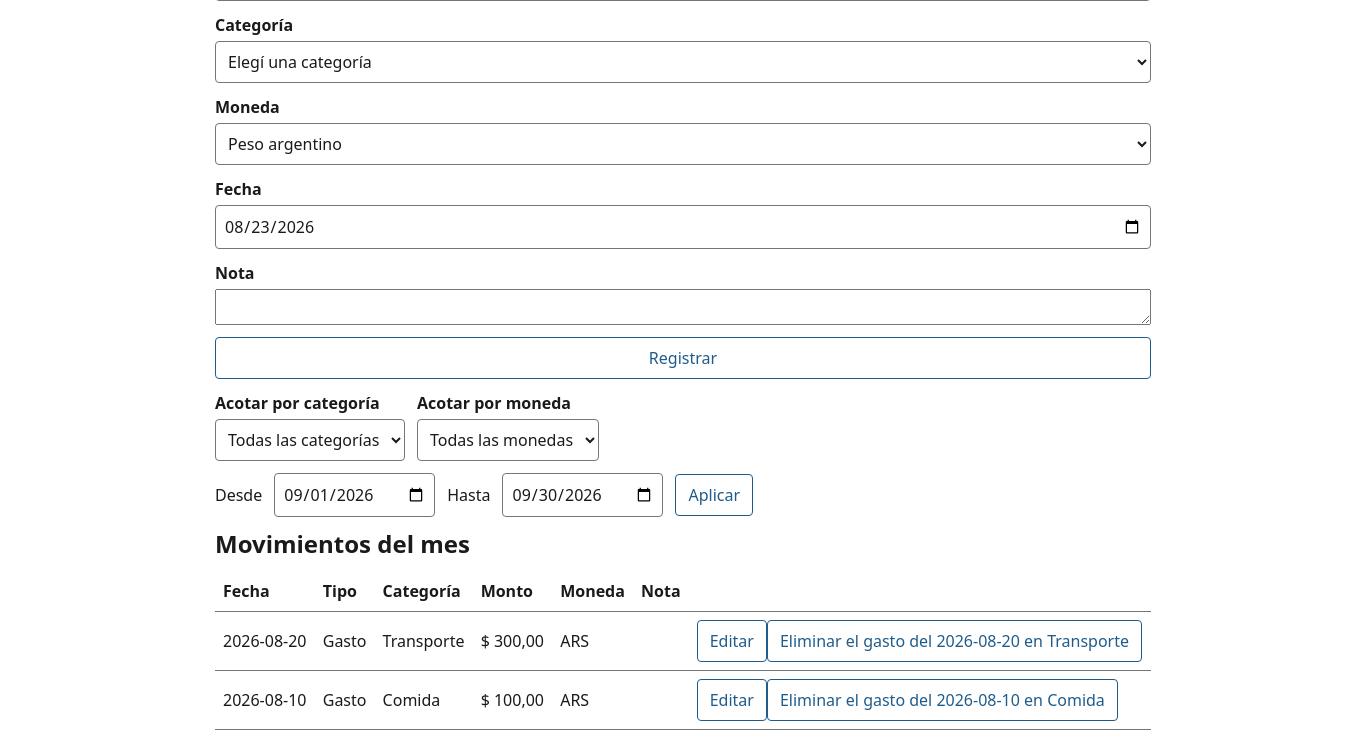
Test: PantallaMovimientos — el aviso de que el listado está acotado D6-06 › acotar por categoría hace aparecer el aviso
(page scrolled)
Expected: the table named "movimientos del mes" is shown, [215, 571, 1151, 730]
Select "Comida" in the dropdown labelled "Acotar por categoría". click: [310, 440]
box: [215, 419, 405, 461]
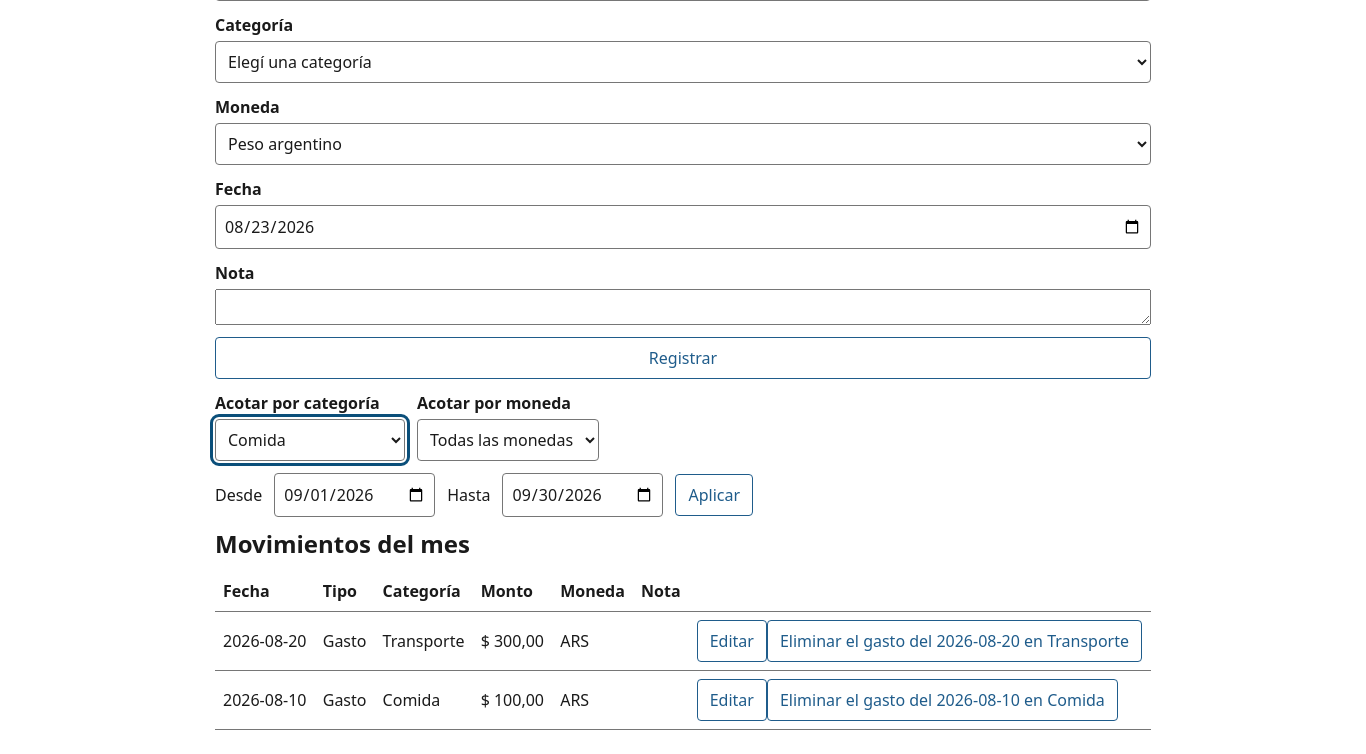
Click the button "Aplicar". click: [714, 495]
box: [676, 474, 753, 516]
(page scrolled)
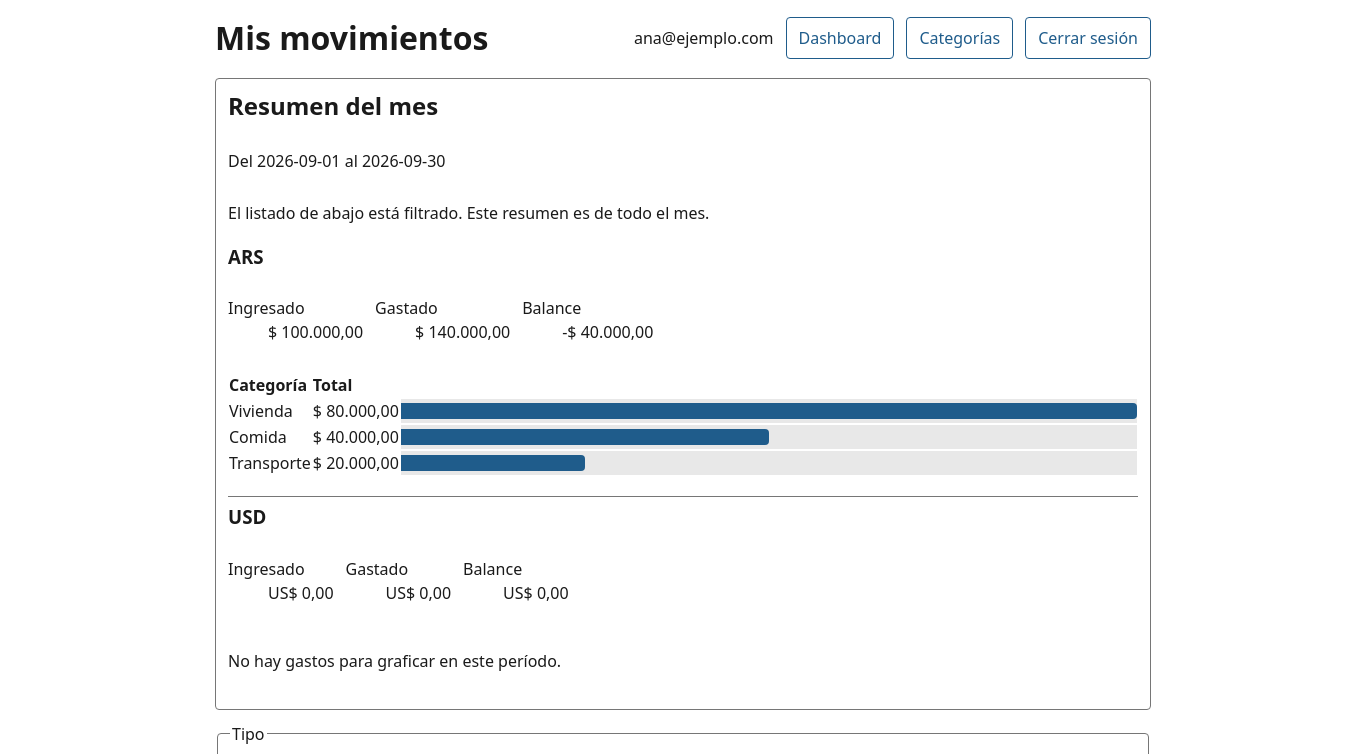
Expected: the text "El listado de abajo está filtrado. Este resumen es de todo el mes." is shown, [228, 202, 709, 224]
